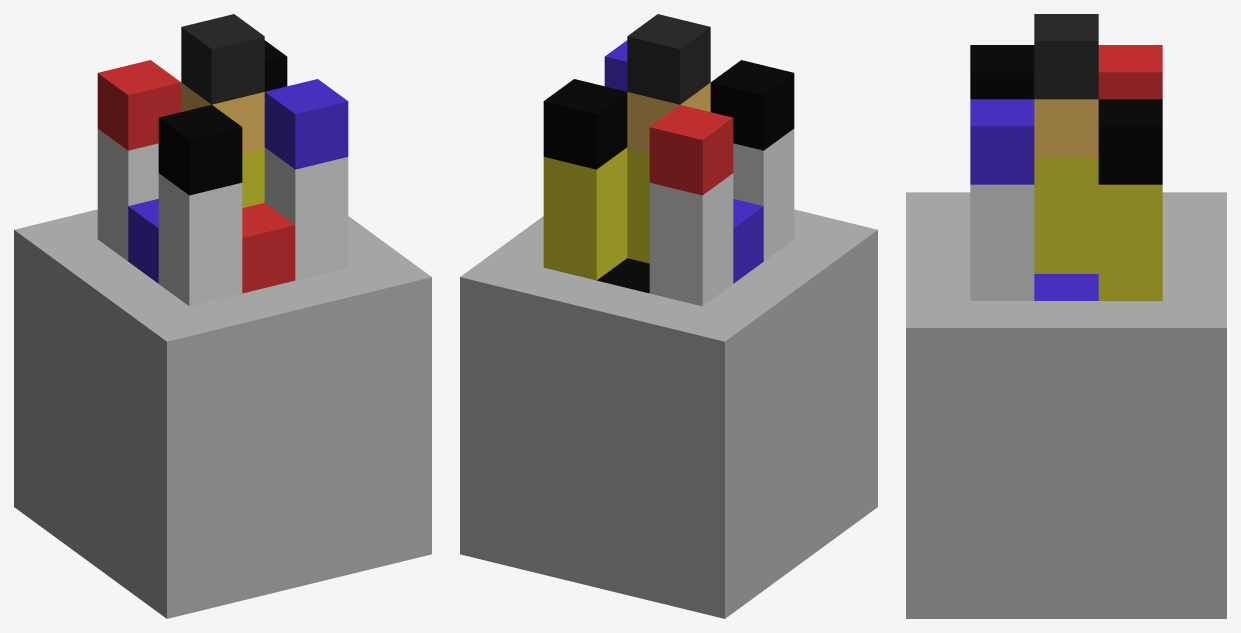
File: pen_holder_01.glb
3 views of the same model, side by side, from view 1: azimuth 30°, elevation 25°; view 2: azimuth 150°, elevation 25°; view 3: azimuth 270°, elevation 25° (orthographic). The views are drawn at different scales.
Visible parts, largest first — view 1: Untitled; view 2: Untitled; view 3: Untitled.
Part boxes in pixels (left/top/right/bottom): Untitled: left=14, top=14, right=431, bottom=618; Untitled: left=460, top=14, right=877, bottom=618; Untitled: left=906, top=14, right=1226, bottom=618.
Bounding box in the file's own units: 0.15 × 0.27 × 0.15.
1 material, 1 textured.
